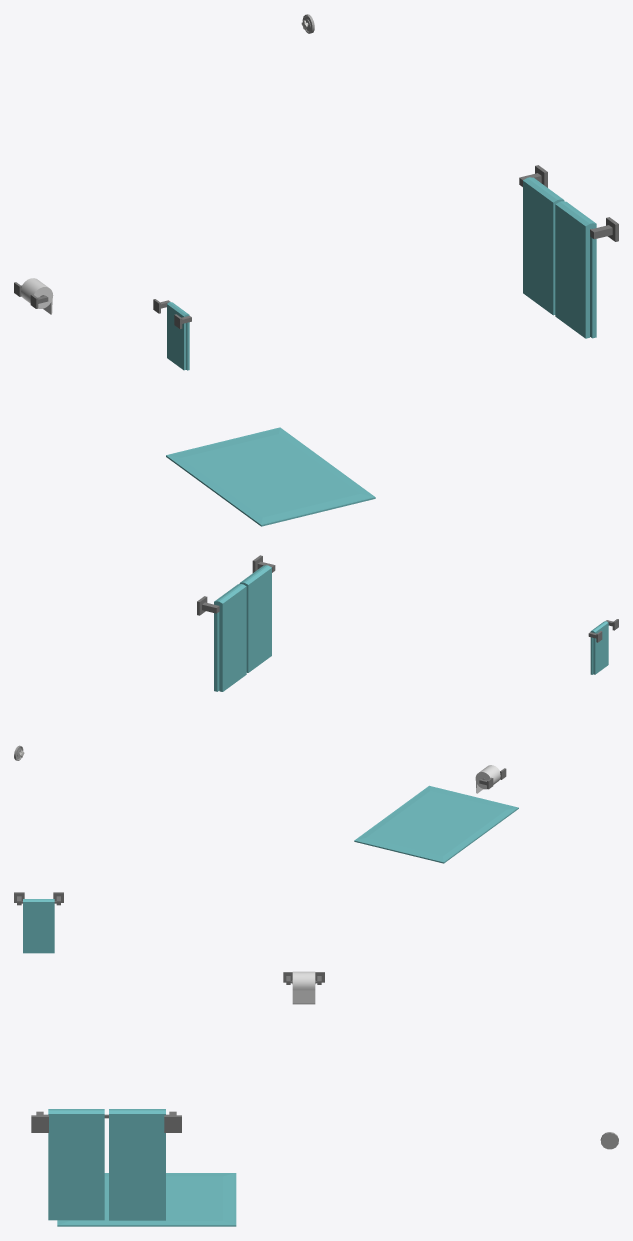
Rendered from bathroom_acc.fbx.
3 views of the same model, one above another, from view 1: azimuth 30°, elevation 25°; view 2: azimuth 150°, elevation 25°; view 3: azimuth 270°, elevation 25° (orthographic). The views are drawn at different scales.
Parts seen in each view (by area): view 1: bathmat, towell3, towell2, towell1, towellRack2; view 2: bathmat, towell2, towell3, towell1, towellRack2; view 3: towell2, towell3, bathmat, towell1, toiletPaper, towellRack2.
Boxes of the visible parts, <box> form: bathmat: <box>166,427,375,526</box>; towell3: <box>555,201,596,338</box>; towell2: <box>523,177,564,315</box>; towell1: <box>167,302,189,370</box>; towellRack2: <box>519,165,618,241</box>; bathmat: <box>354,785,518,863</box>; towell2: <box>214,584,246,691</box>; towell3: <box>239,565,271,672</box>; towell1: <box>590,621,608,674</box>; towellRack2: <box>197,555,275,615</box>; towell2: <box>109,1109,165,1220</box>; towell3: <box>48,1109,104,1220</box>; bathmat: <box>57,1173,236,1226</box>; towell1: <box>23,899,54,953</box>; toiletPaper: <box>292,971,315,1004</box>; towellRack2: <box>31,1111,181,1132</box>.
Size of the model in its own units: 2.71 by 1.45 by 3.38.
